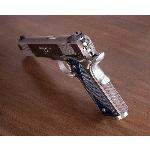Pistol: (17, 29, 129, 121)
